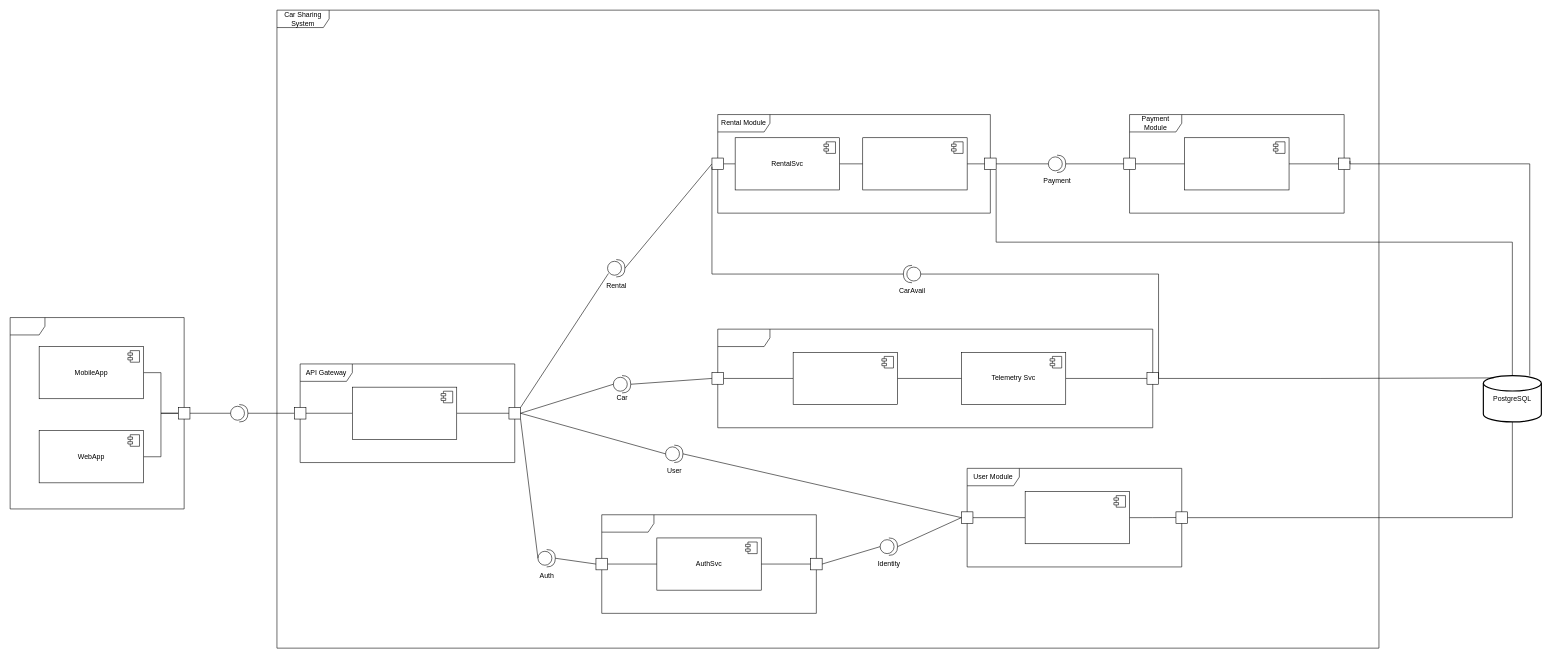
This 1552x658 diagram has some shape labels left out. The box of each missing label's shape, as (x1, y1, x2, y2) in pixels:
Auth Module: (601, 514, 816, 613)
Car Module: (717, 329, 1153, 428)
CarSvc: (793, 352, 898, 405)
Client: (10, 317, 184, 509)
Gateway Controller: (352, 387, 457, 439)
HTTP API: (230, 404, 248, 422)
PaymentSvc: (1184, 137, 1289, 190)
Pricing Engine: (862, 137, 967, 190)
UserSvc: (1025, 491, 1130, 544)
